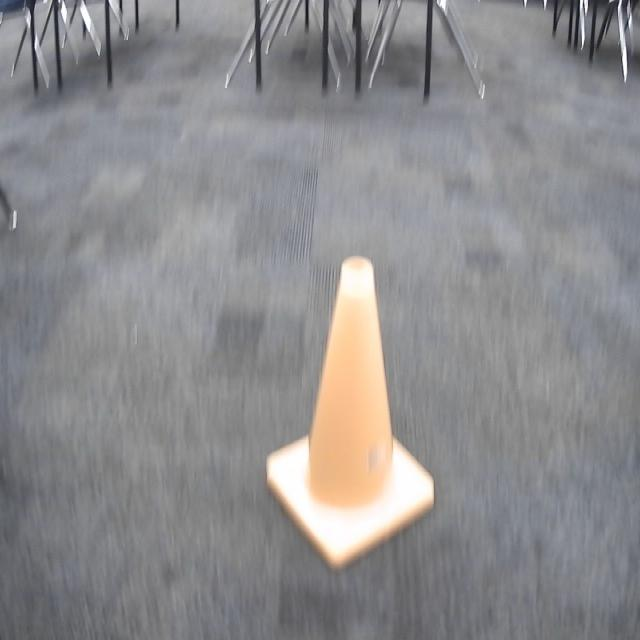cone: (265, 249, 440, 576)
